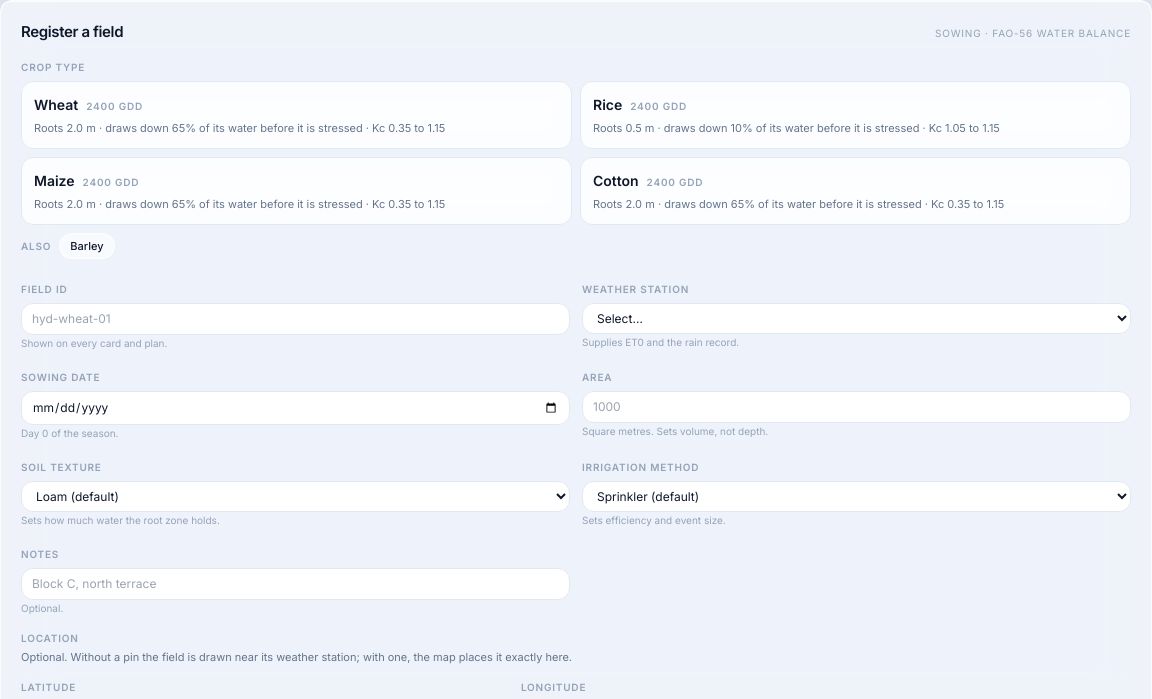
it: AddField › shows the selected crop the numbers behind its water demand
Click the button that starts with "Cotton" at (616, 180), box [580, 157, 1131, 225]
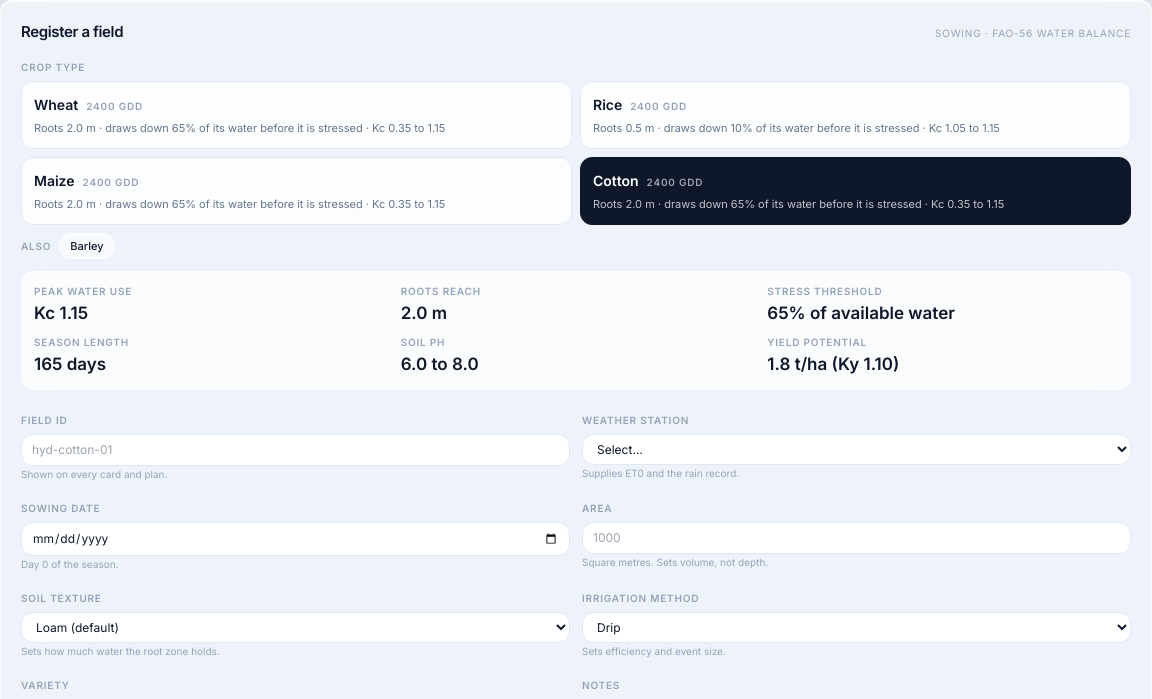
Now the text "2.0 m" is shown, box [401, 303, 447, 323]
Now the text "65% of available water" is shown, box [767, 303, 955, 323]
Now the text "165 days" is shown, box [34, 354, 106, 374]
